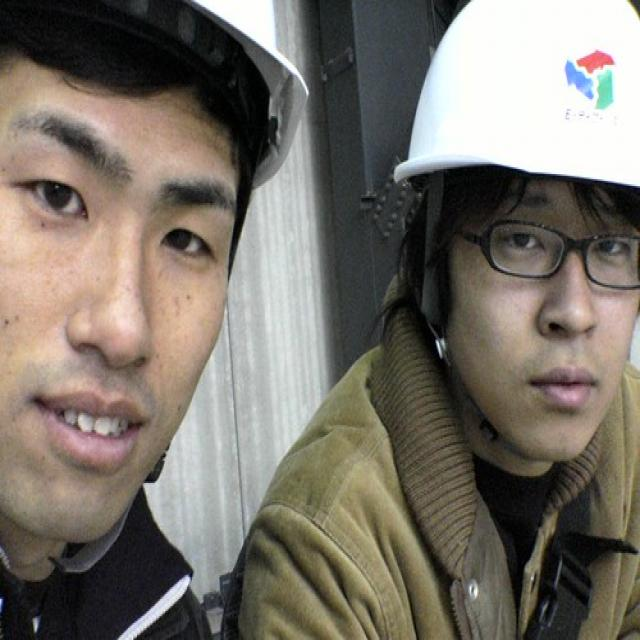Safety-Helmet: (394, 7, 636, 212), (1, 0, 322, 108)
